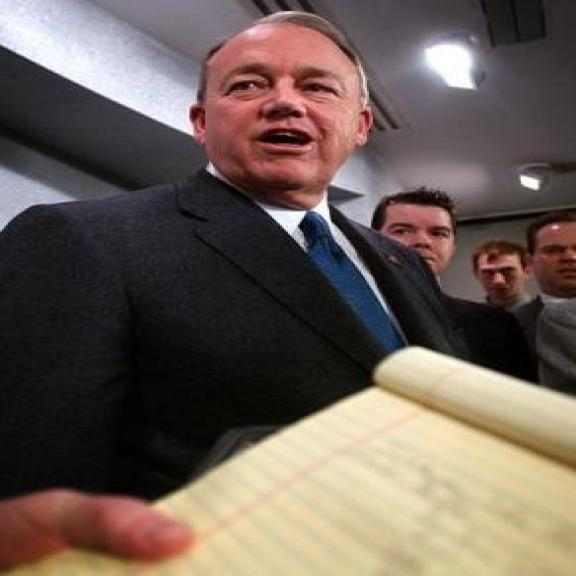face: (187, 34, 377, 198), (368, 202, 452, 276), (528, 220, 576, 296), (470, 252, 530, 300)
